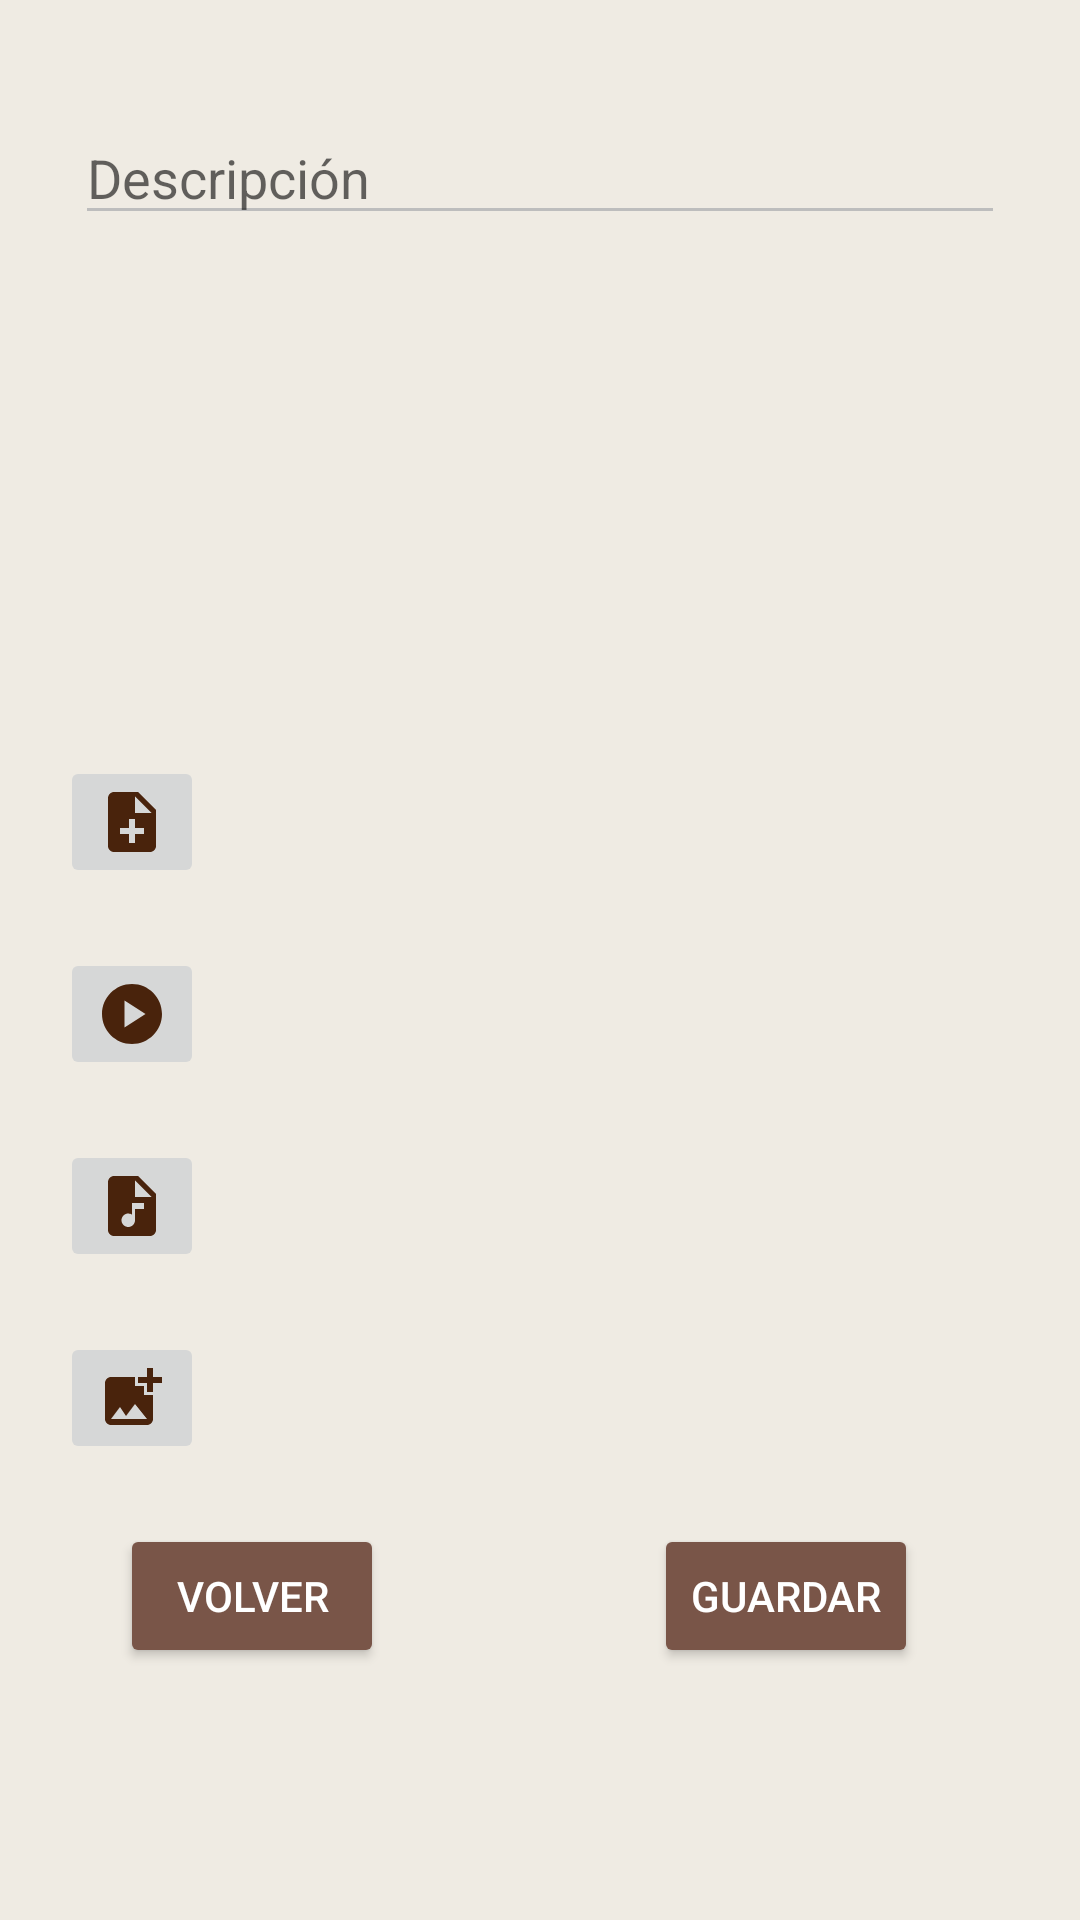

Locate icon controls on the screen. Image size 1080 x 1920, boxes as (x1, y1, x2, y2).
add photo alternate: (72, 1350, 192, 1446)
audio file: (72, 1158, 192, 1254)
note add: (72, 774, 192, 870)
play circle: (72, 966, 192, 1062)
